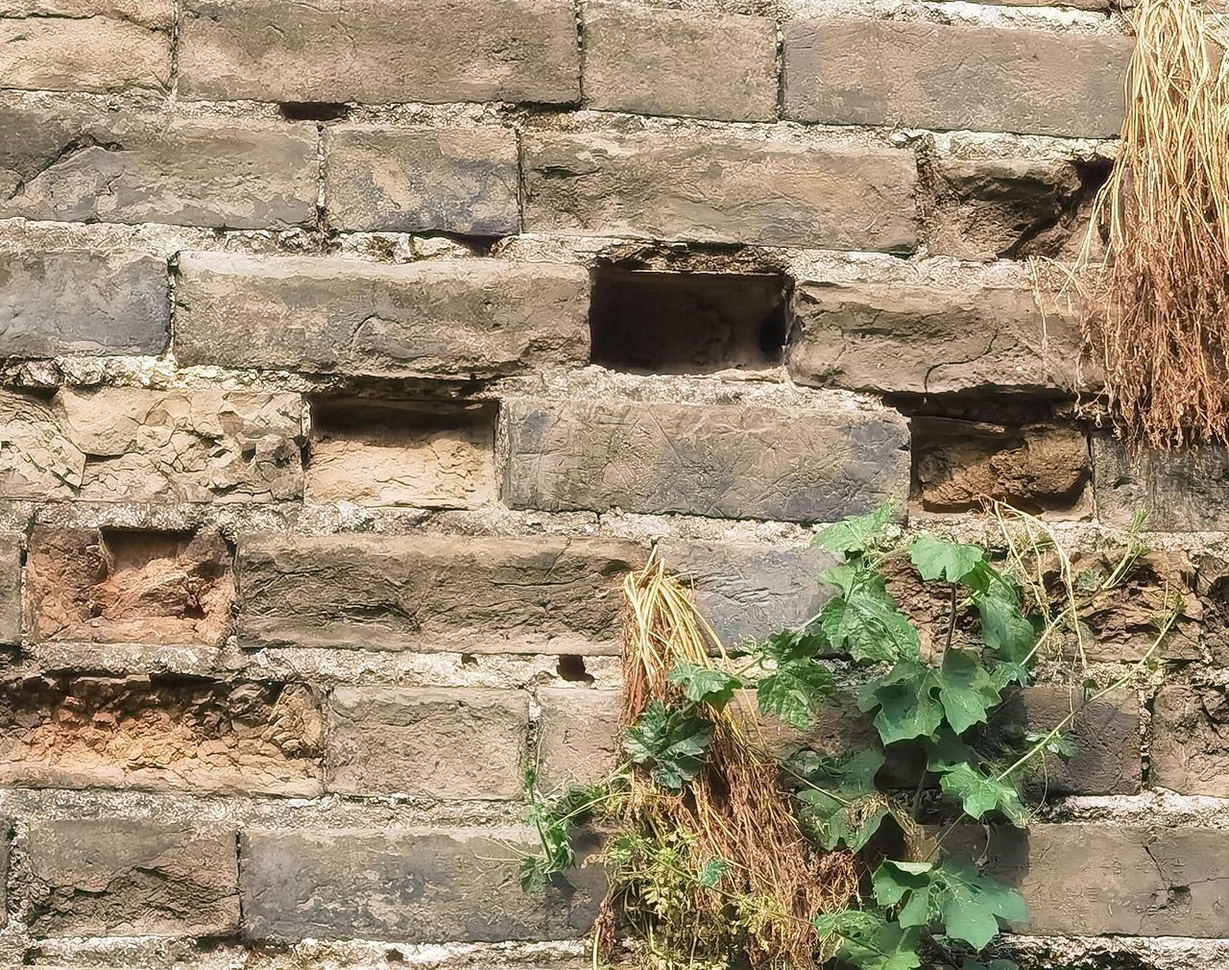brick_loss: (5, 660, 338, 779), (928, 138, 1118, 261), (320, 362, 499, 492), (909, 399, 1093, 521), (587, 267, 793, 372), (70, 529, 229, 638), (1, 367, 69, 502)
vegetation: (771, 509, 1077, 970), (524, 769, 613, 901)
